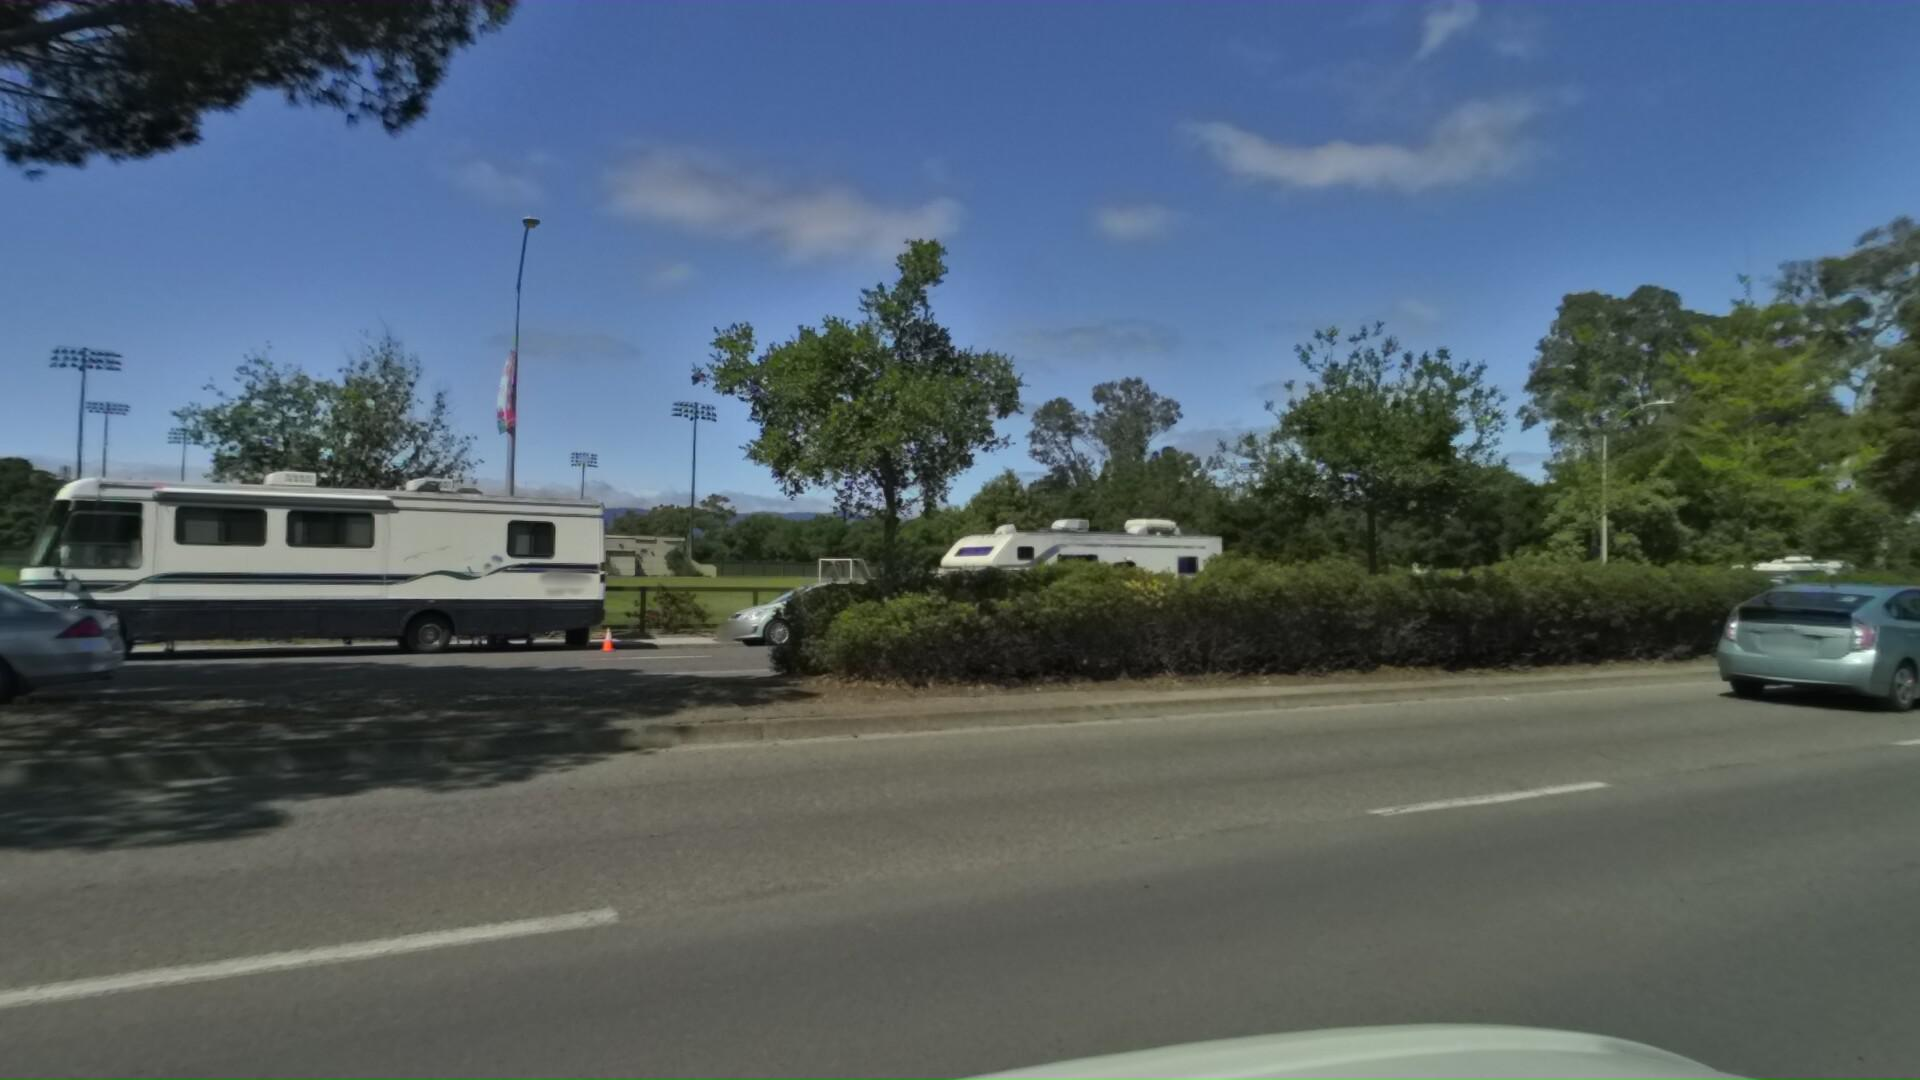car: (1706, 579, 1920, 724), (688, 574, 897, 651), (0, 560, 8, 749)
other_vehicle: (0, 443, 593, 674), (893, 493, 1220, 651), (1702, 545, 1851, 624)
